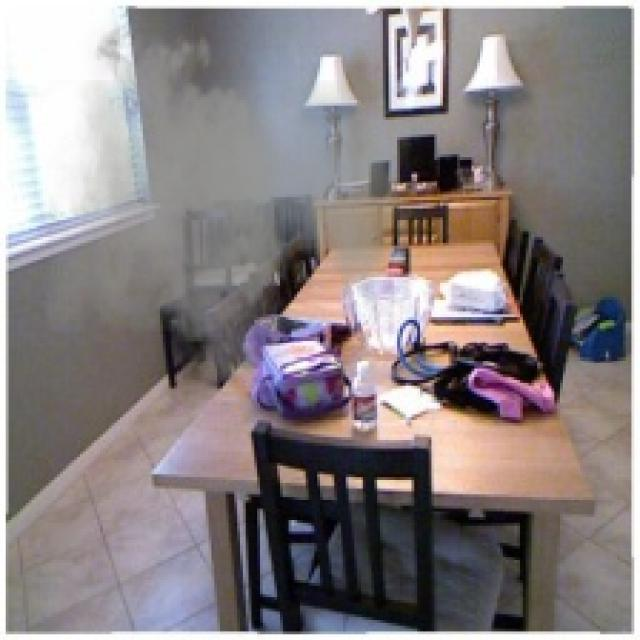smoke: (46, 11, 411, 400)
